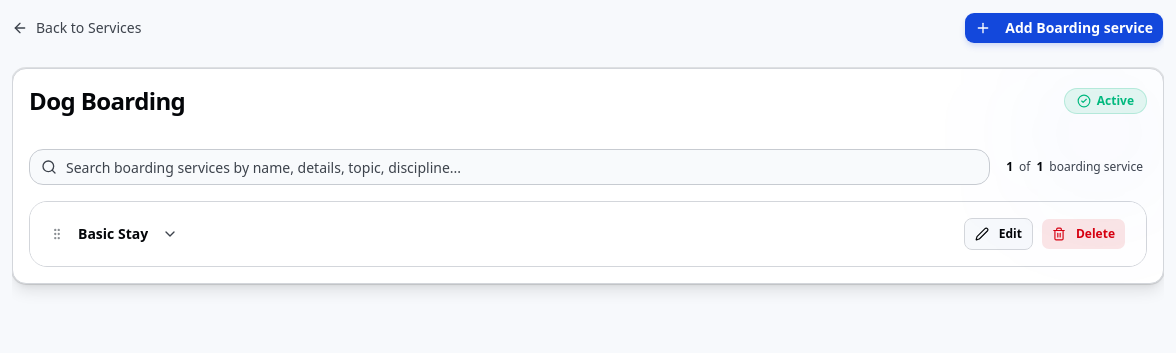
it: DashboardServiceDetail Component › should show '1 Walk' (singular) when dailyWalks is 1
The width and height of the screenshot is (1176, 353).
Click the button named "Expand". click: coordinates (170, 234)
box: [158, 222, 182, 246]
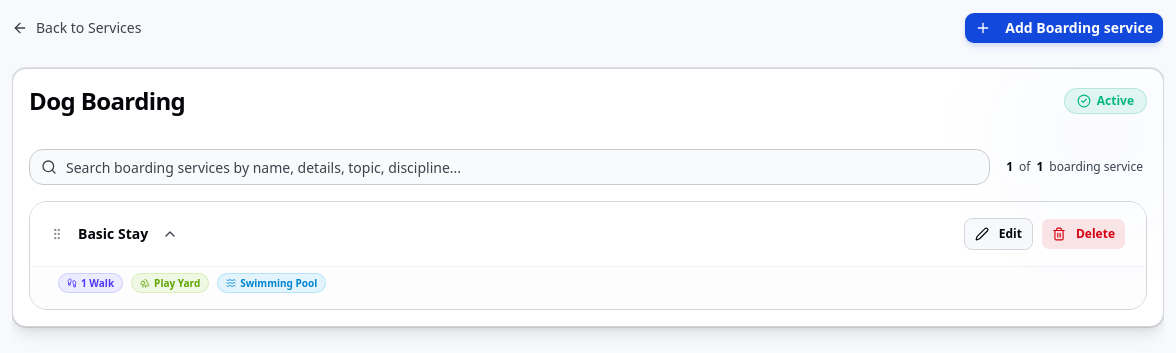
Expected: the text "1 Walk" is shown, [58, 273, 123, 293]
Expected: the text "Play Yard" is shown, [131, 273, 209, 293]
Expected: the text "Swimming Pool" is shown, [217, 273, 326, 293]
